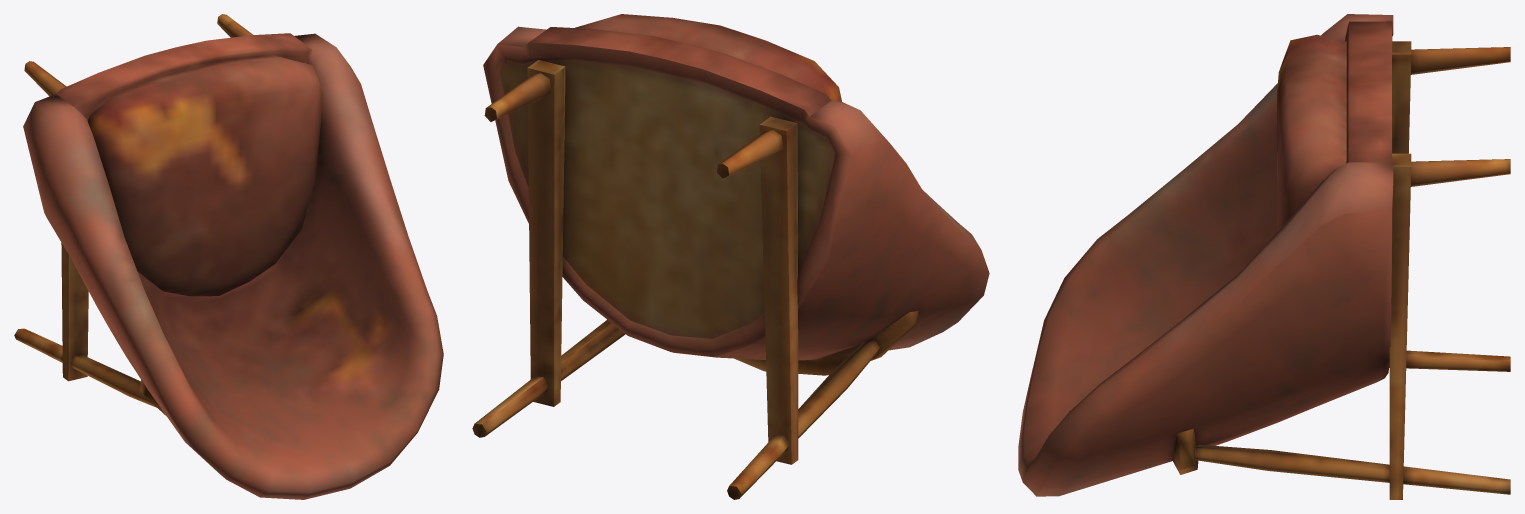
File: armchair.obj
The picture shows the model from 3 angles, left to right: view 1: azimuth 30°, elevation 25°; view 2: azimuth 150°, elevation 25°; view 3: azimuth 270°, elevation 25°; orthographic projection. The views are drawn at different scales.
Visible parts, largest first — view 1: SubChairDirty01:1; view 2: SubChairDirty01:1; view 3: SubChairDirty01:1.
Part boxes in pixels (<box>): SubChairDirty01:1: <box>14,14,443,499</box>; SubChairDirty01:1: <box>472,14,989,499</box>; SubChairDirty01:1: <box>1018,14,1510,499</box>.
Size of the model in its own units: 61.61 by 63.61 by 70.61.
